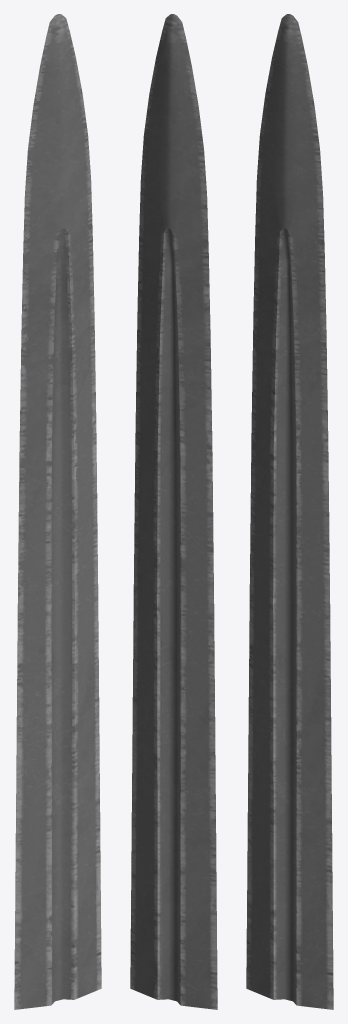
Rendered from wm_pelagir_sword_a02_blade.fbx.
3 views of the same model, side by side, from view 1: azimuth 30°, elevation 25°; view 2: azimuth 150°, elevation 25°; view 3: azimuth 330°, elevation 25° (orthographic).
Visible parts, largest first — view 1: wm_pelagir_sword_a02_blade; view 2: wm_pelagir_sword_a02_blade; view 3: wm_pelagir_sword_a02_blade.
Part boxes in pixels (box(x1,y1,x2,y2)): wm_pelagir_sword_a02_blade: box(14, 14, 101, 1009); wm_pelagir_sword_a02_blade: box(130, 14, 217, 1009); wm_pelagir_sword_a02_blade: box(246, 14, 333, 1009).
Bounding box in the file's own units: 0.0627 × 0.0129 × 0.6759.
Materials: 1 (1 with a texture image).
